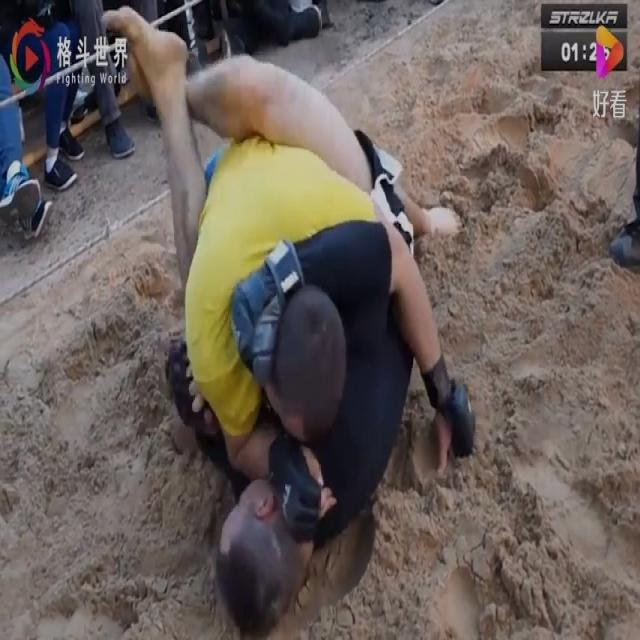fight: (100, 8, 474, 634)
